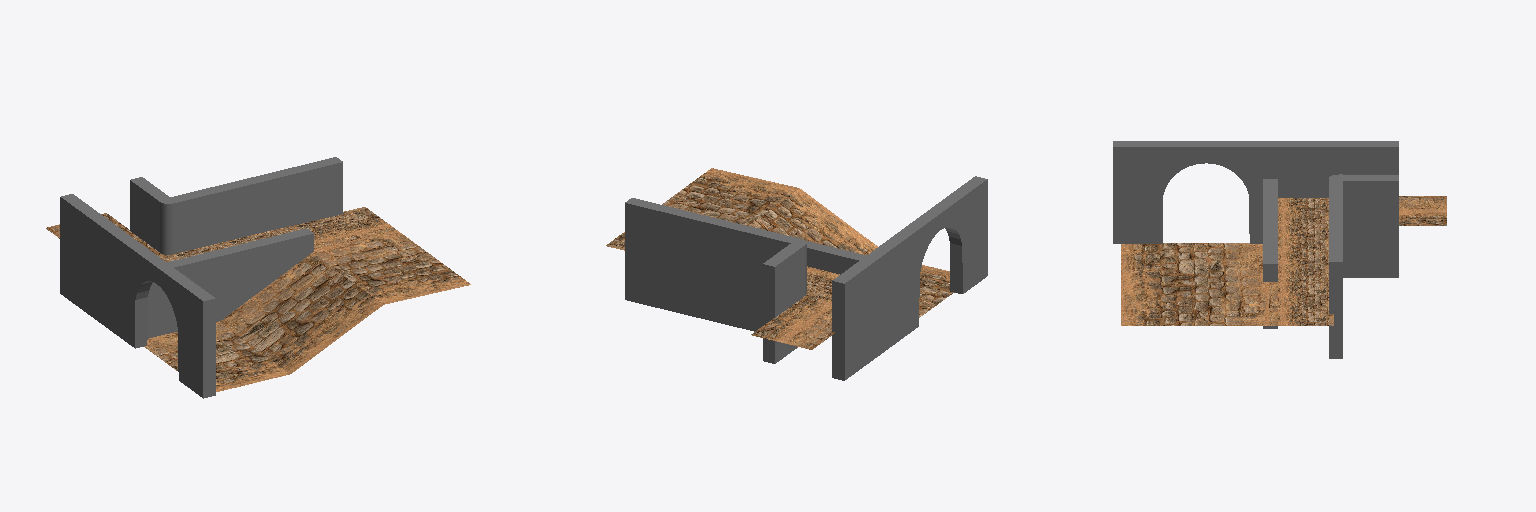
The picture shows the model from 3 angles: view 1: azimuth 30°, elevation 25°; view 2: azimuth 150°, elevation 25°; view 3: azimuth 270°, elevation 25°; orthographic projection.
Parts seen in each view (by area): view 1: Plane001, Box006, Box009, Box007, Box010; view 2: Box009, Box006, Plane001, Box010, Box007; view 3: Plane001, Box006, Box010, Box009, Box007.
Boxes of the visible parts, x1,y1,x2,y2 form: Plane001: [46, 207, 470, 391]; Box006: [60, 194, 215, 398]; Box009: [158, 157, 342, 254]; Box007: [121, 228, 313, 341]; Box010: [130, 177, 169, 250]; Box009: [625, 198, 806, 331]; Box006: [832, 176, 987, 380]; Plane001: [606, 168, 953, 349]; Box010: [763, 243, 802, 363]; Box007: [806, 241, 911, 303]; Plane001: [1121, 196, 1446, 325]; Box006: [1113, 141, 1398, 243]; Box010: [1343, 175, 1398, 277]; Box009: [1329, 174, 1342, 358]; Box007: [1263, 179, 1277, 328].
Size of the model in its own units: 220 by 75.49 by 233.
Materials: 2 (1 with a texture image).